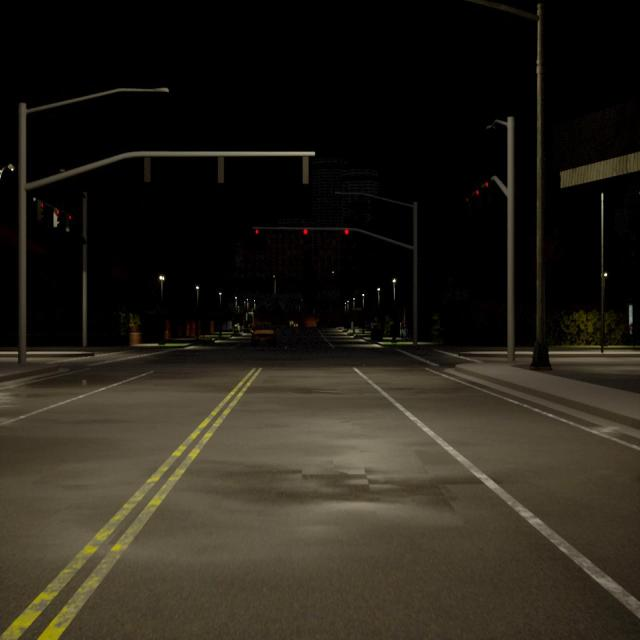Pedestrian: (402, 322, 407, 342)
Vehicle: (252, 322, 275, 348)
traffic_light: (218, 156, 224, 183), (302, 156, 308, 183), (144, 157, 150, 181), (66, 215, 72, 231), (39, 202, 44, 221), (54, 208, 58, 227), (344, 229, 350, 235), (303, 229, 308, 235), (256, 229, 259, 234), (476, 190, 479, 195), (486, 182, 488, 187), (466, 198, 468, 202)
